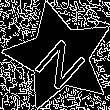N_NE: (27, 25, 91, 89)
